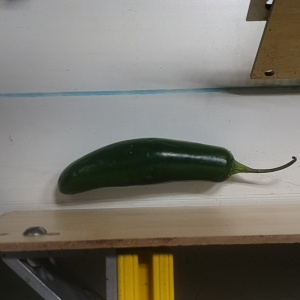Cut Point: (211, 145, 247, 184)
